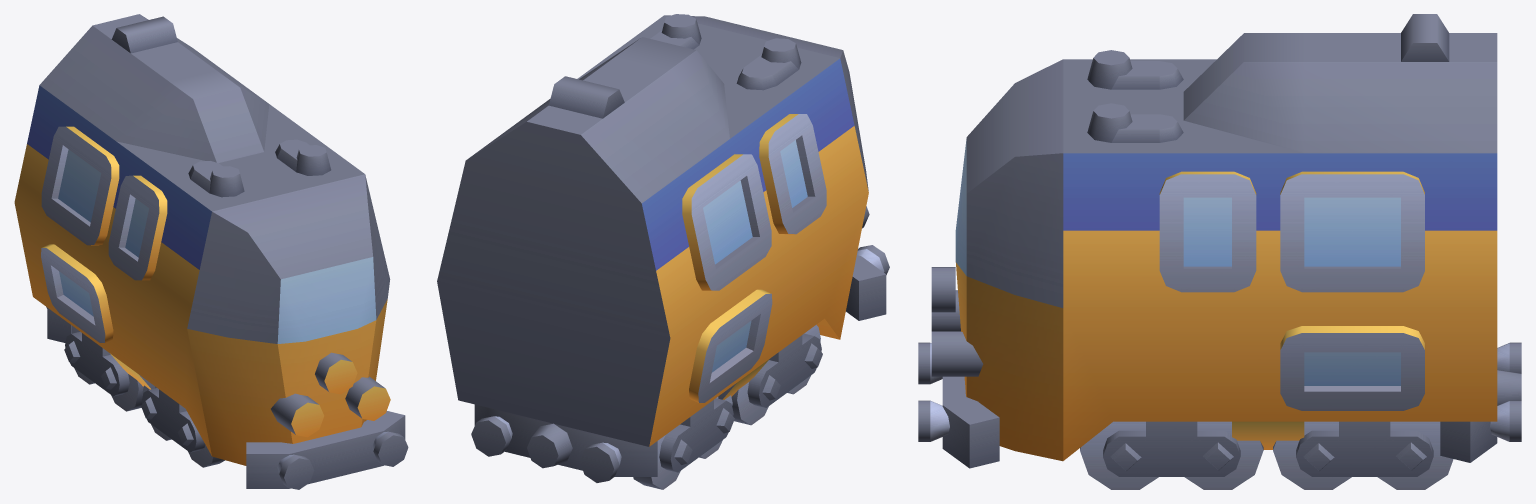
File: train-doubleA.glb
3 views of the same model, side by side, from view 1: azimuth 30°, elevation 25°; view 2: azimuth 150°, elevation 25°; view 3: azimuth 270°, elevation 25° (orthographic). The views are drawn at different scales.
Visible parts, largest first — view 1: train-electric-double-a; view 2: train-electric-double-a; view 3: train-electric-double-a.
Part boxes in pixels (box(x1,y1,x2,y2)): train-electric-double-a: box(14, 14, 408, 489); train-electric-double-a: box(437, 14, 889, 489); train-electric-double-a: box(918, 14, 1521, 489).
Bounding box in the file's own units: 1.28 × 1.92 × 2.5.
Materials: 1 (1 with a texture image).
